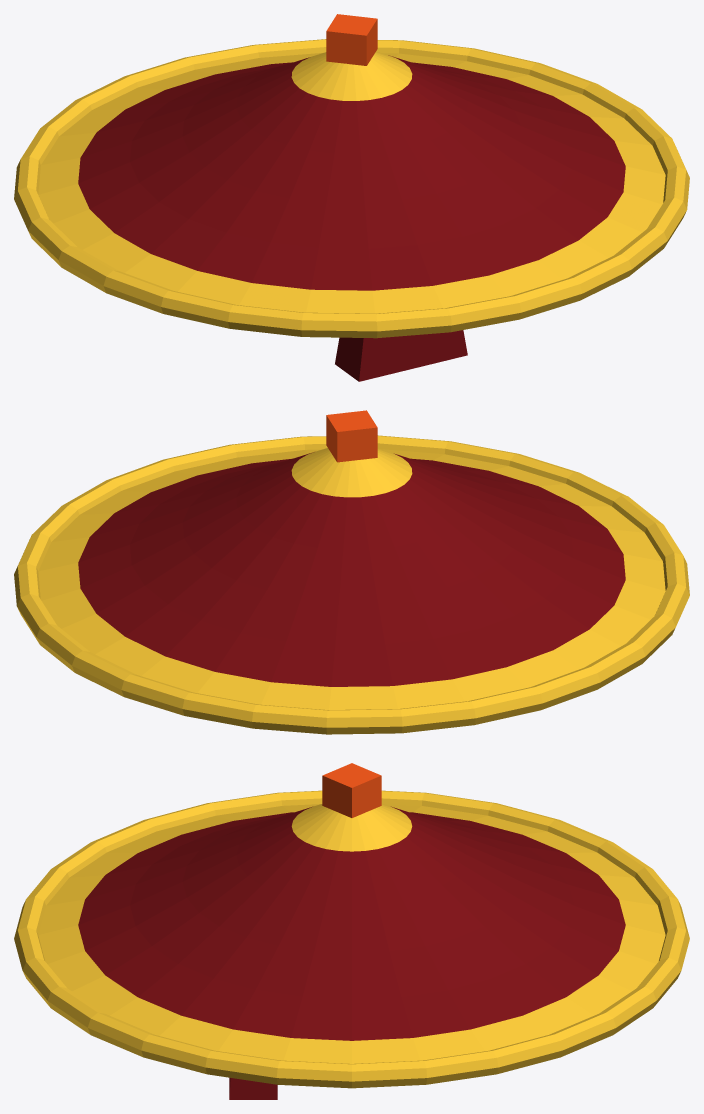
The model's file is Skin_SamuraiKabuto.obj.
3 renders of one model, top to bottom at view 1: azimuth 30°, elevation 25°; view 2: azimuth 150°, elevation 25°; view 3: azimuth 270°, elevation 25°, orthographic.
Parts seen in each view (by area): view 1: Skin_SamuraiKabuto_BaseArmor, Skin_SamuraiKabuto_TrimMetal, Skin_SamuraiKabuto_EmissiveCore; view 2: Skin_SamuraiKabuto_BaseArmor, Skin_SamuraiKabuto_TrimMetal, Skin_SamuraiKabuto_EmissiveCore; view 3: Skin_SamuraiKabuto_BaseArmor, Skin_SamuraiKabuto_TrimMetal, Skin_SamuraiKabuto_EmissiveCore.
Part boxes in pixels (bbox=[...]): Skin_SamuraiKabuto_BaseArmor: bbox=[78, 55, 625, 381]; Skin_SamuraiKabuto_TrimMetal: bbox=[14, 39, 689, 338]; Skin_SamuraiKabuto_EmissiveCore: bbox=[326, 14, 377, 65]; Skin_SamuraiKabuto_BaseArmor: bbox=[78, 452, 625, 686]; Skin_SamuraiKabuto_TrimMetal: bbox=[14, 435, 689, 734]; Skin_SamuraiKabuto_EmissiveCore: bbox=[326, 410, 377, 462]; Skin_SamuraiKabuto_BaseArmor: bbox=[78, 806, 625, 1099]; Skin_SamuraiKabuto_TrimMetal: bbox=[14, 790, 689, 1088]; Skin_SamuraiKabuto_EmissiveCore: bbox=[322, 763, 381, 817].
Size of the model in its own units: 0.728 by 0.354 by 0.728.
